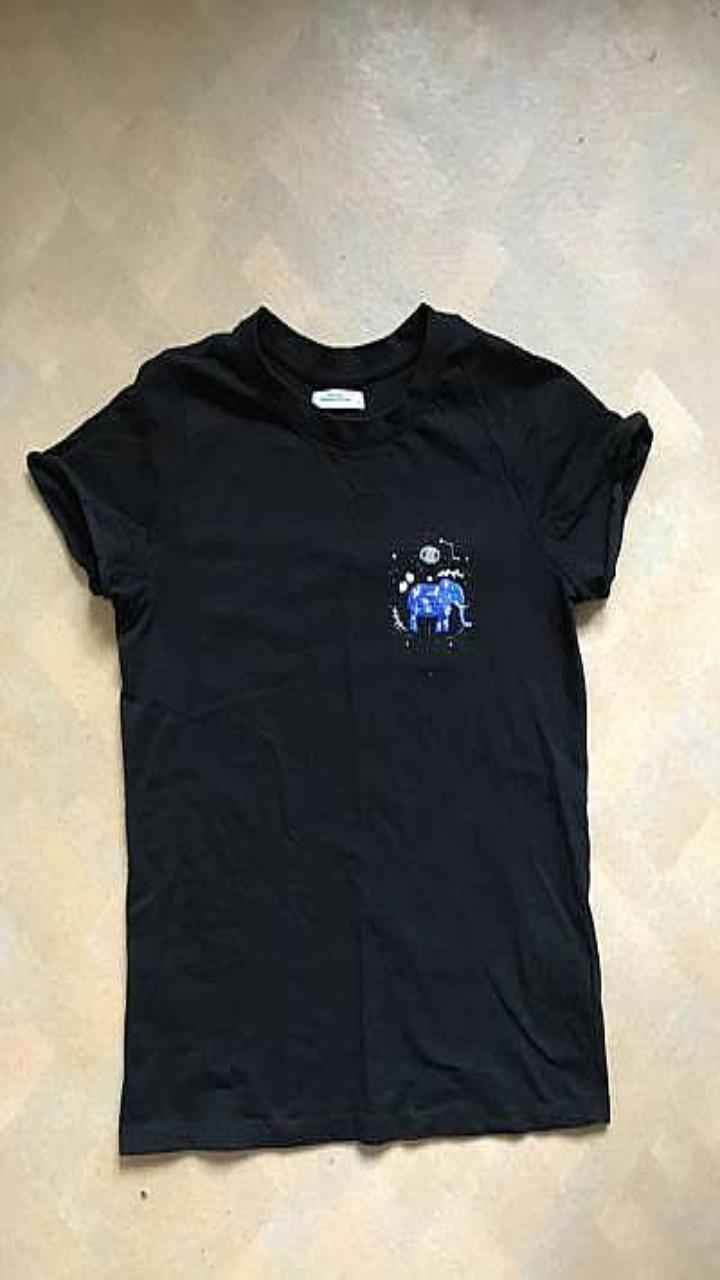T-Shirt: (27, 302, 652, 1153)
